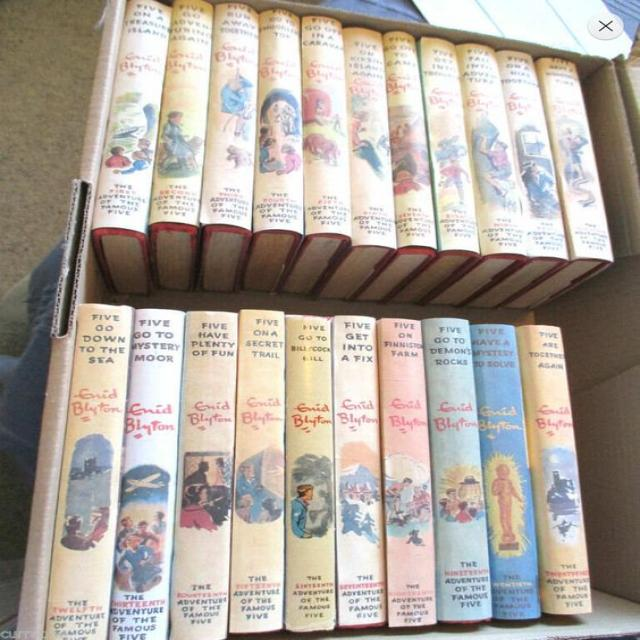book: (44, 304, 131, 640), (108, 309, 183, 638), (170, 310, 238, 639), (518, 324, 592, 615), (423, 318, 493, 622), (472, 326, 541, 622), (92, 0, 173, 234), (379, 318, 438, 627), (231, 310, 287, 632), (332, 315, 388, 628), (285, 315, 336, 634), (148, 0, 216, 228), (458, 45, 530, 260), (536, 58, 612, 261), (499, 52, 571, 261), (419, 37, 479, 254), (342, 27, 398, 249), (203, 5, 258, 231), (251, 9, 303, 234), (384, 31, 437, 251), (303, 16, 351, 240)
